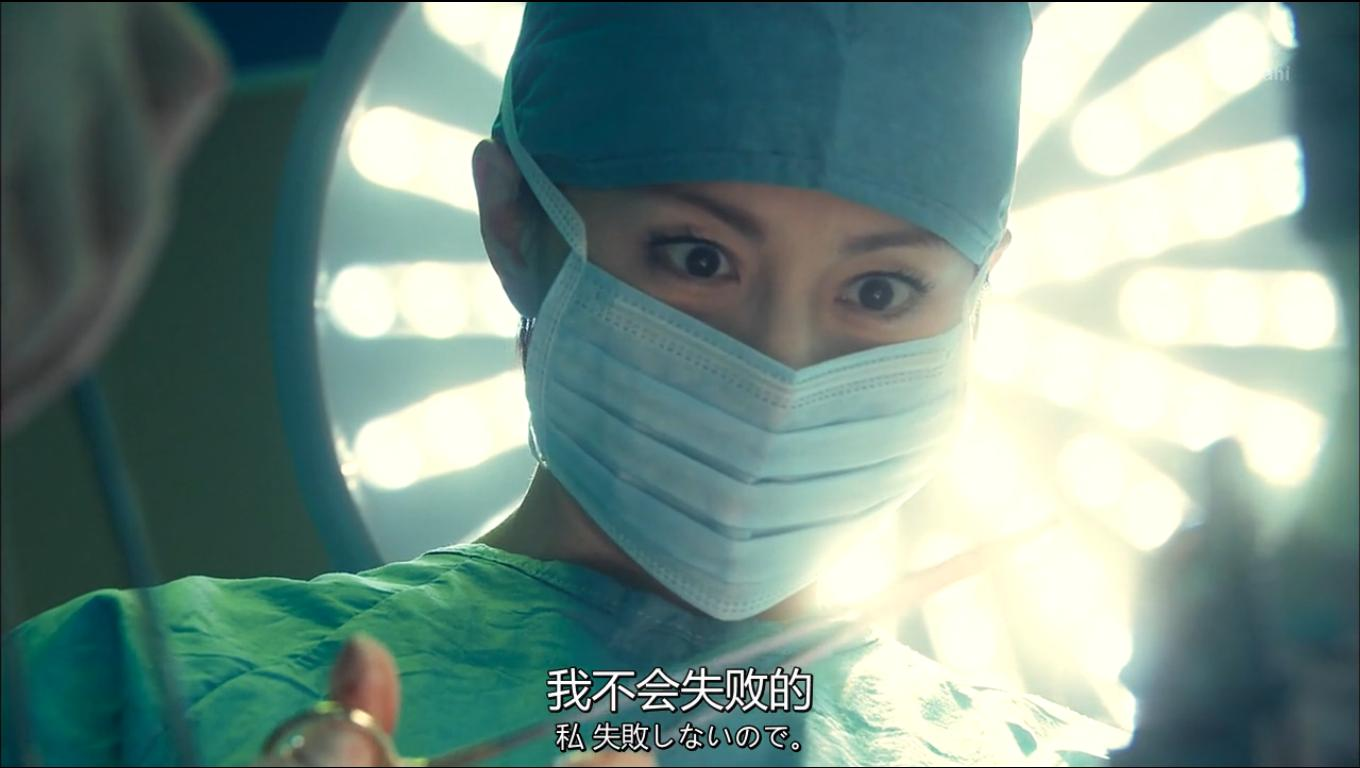mask: (523, 259, 969, 623)
